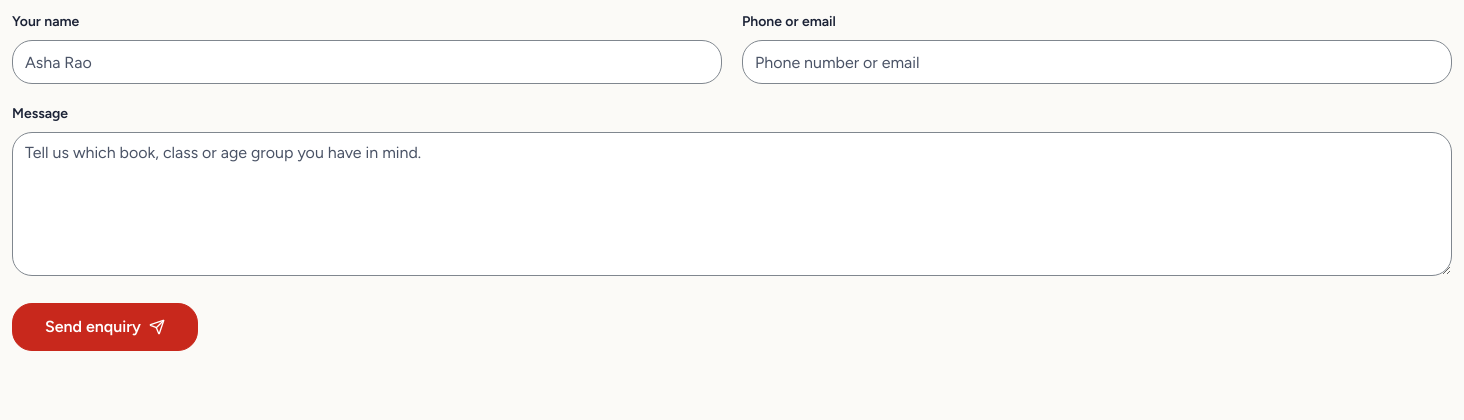
Test: EnquiryForm › shows inline errors, focuses the first invalid field and does not submit
The image size is (1464, 420).
Click the button "Send enquiry".
click(105, 327)  # box [12,303,198,351]
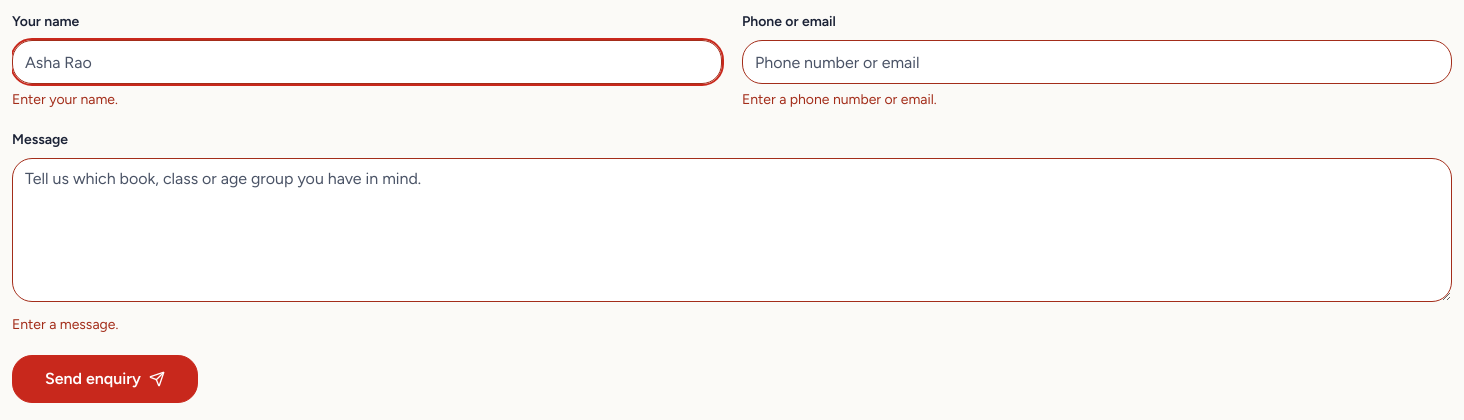
expect the text "Enter your name." is shown: met, box [12,91,118,108]
expect the text "Enter a phone number or email." is shown: met, box [742,91,937,108]
expect the text "Enter a message." is shown: met, box [12,316,118,333]
